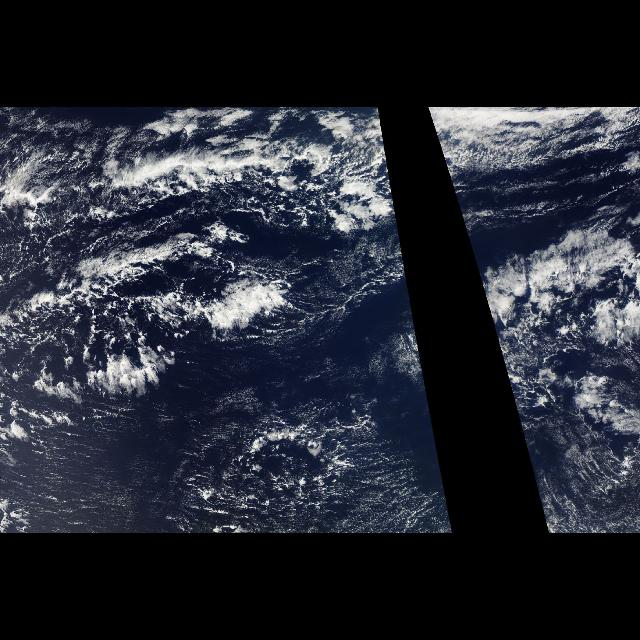Fish: (7, 140, 387, 248)
Gravel: (156, 453, 430, 531)
Sugar: (6, 442, 136, 530)
